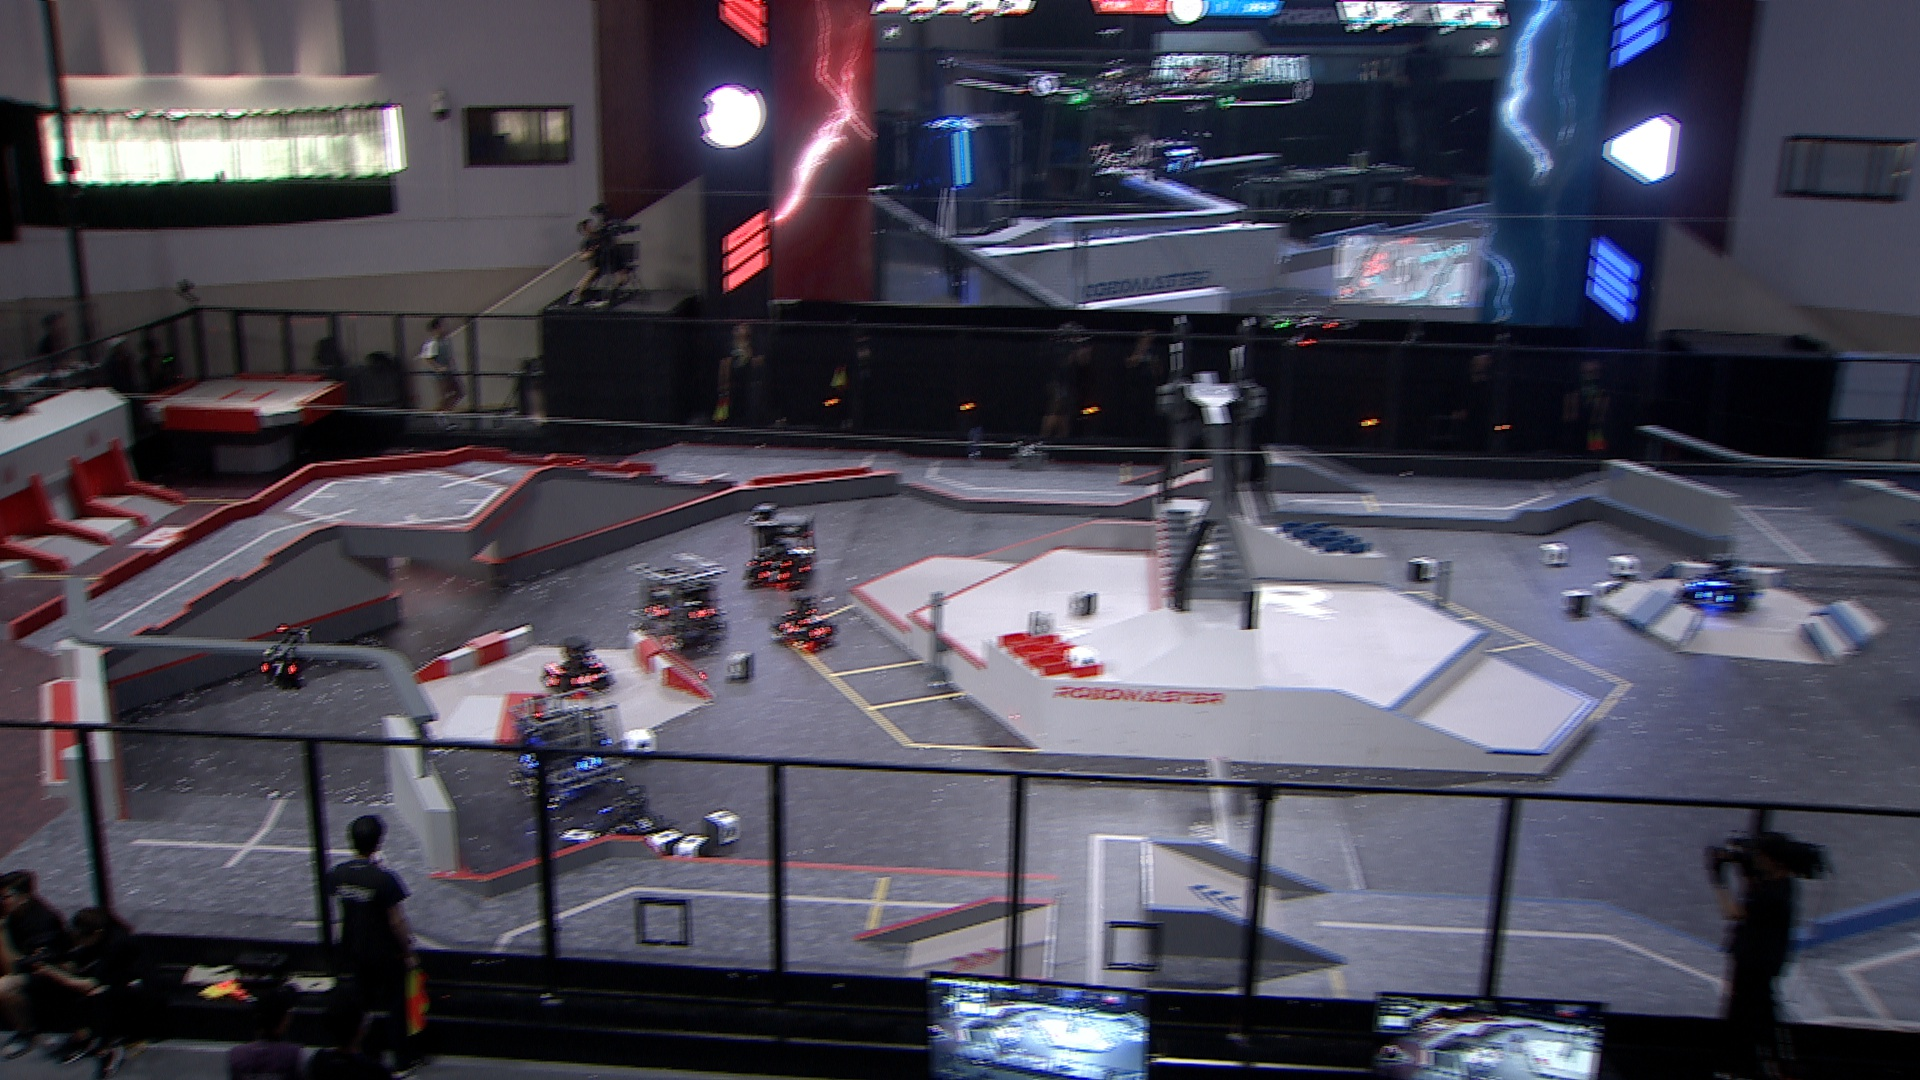armor: (621, 815, 654, 839), (261, 661, 294, 678), (574, 673, 603, 688), (584, 647, 603, 669), (756, 570, 785, 583), (1702, 589, 1727, 604), (692, 604, 713, 621), (1685, 575, 1704, 593), (645, 604, 670, 617), (579, 756, 603, 769), (807, 624, 828, 638), (518, 752, 535, 769), (538, 671, 556, 687), (760, 560, 785, 570), (804, 611, 822, 622), (781, 622, 799, 632)
car: (509, 688, 618, 804), (626, 550, 732, 659), (740, 501, 822, 593), (589, 785, 678, 861), (1679, 549, 1760, 617), (539, 636, 613, 705), (774, 591, 837, 659)
ignore: (889, 117, 1011, 240), (1139, 138, 1195, 178)
watcher: (253, 622, 320, 692)
